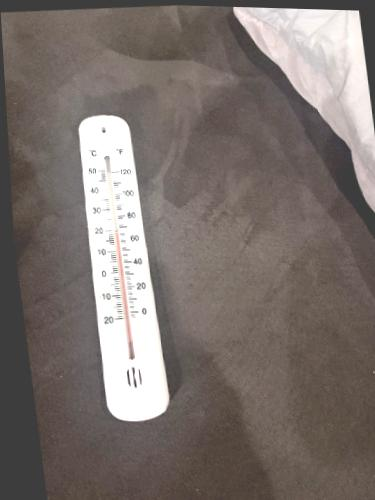thermo: (74, 108, 172, 418)
